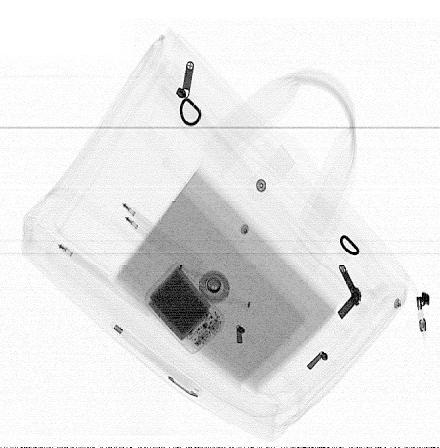Powerbank: (144, 263, 225, 354)
